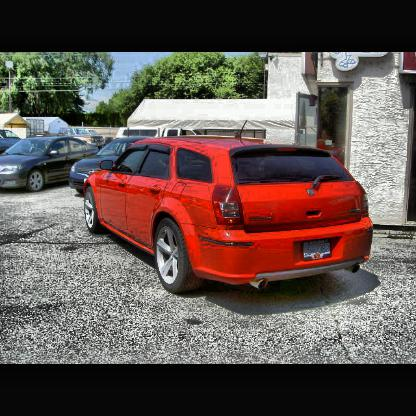Dodge Magnum Wagon 2008: (83, 137, 375, 298)
